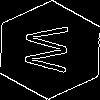W: (25, 25, 78, 74)
